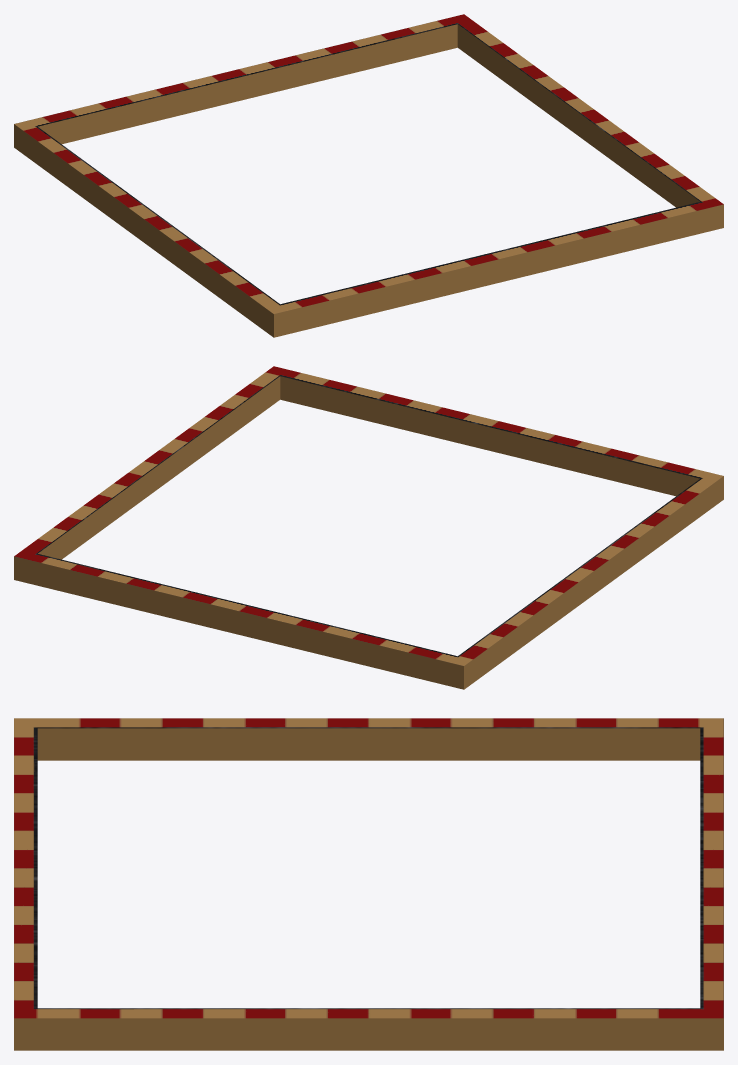
Rendered from InnerBorder.FBX.
3 renders of one model, top to bottom at view 1: azimuth 30°, elevation 25°; view 2: azimuth 150°, elevation 25°; view 3: azimuth 270°, elevation 25°, orthographic. The views are drawn at different scales.
Visible parts, largest first — view 1: InnerBorder; view 2: InnerBorder; view 3: InnerBorder.
Boxes of the visible parts, bbox=[...] form: InnerBorder: bbox=[14, 14, 723, 337]; InnerBorder: bbox=[14, 366, 723, 689]; InnerBorder: bbox=[14, 718, 723, 1050].
Size of the model in its own units: 118 by 5.91 by 118.
